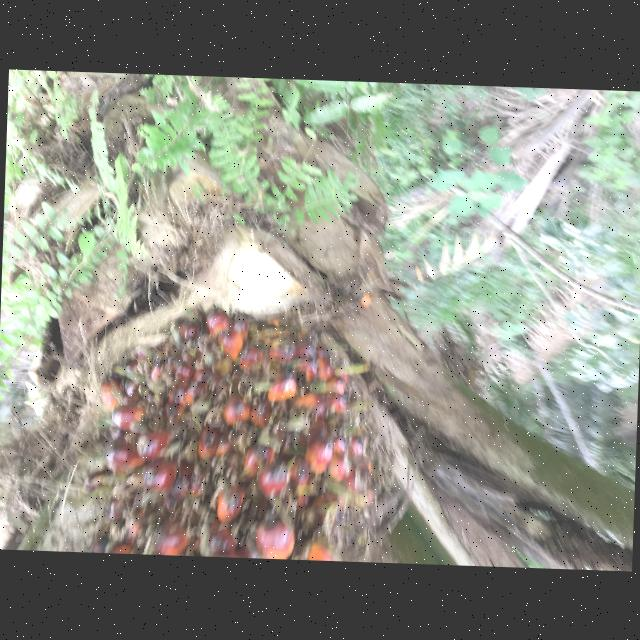Ripe: (82, 308, 379, 561)
